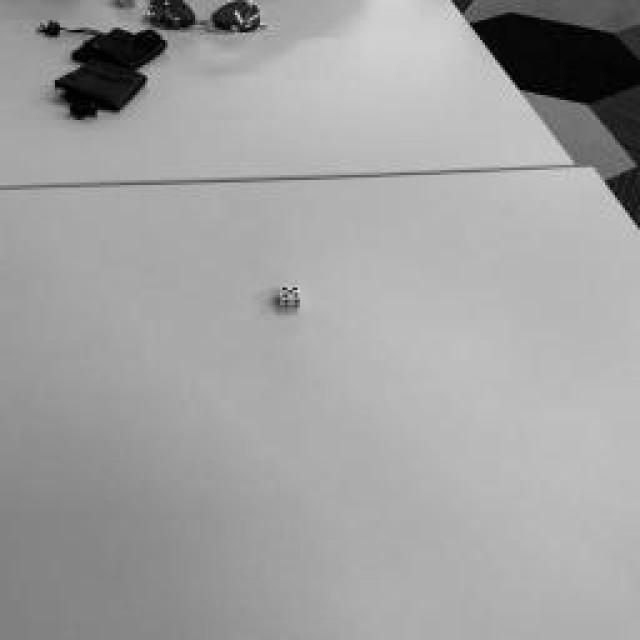dice_5: (280, 286, 302, 299)
